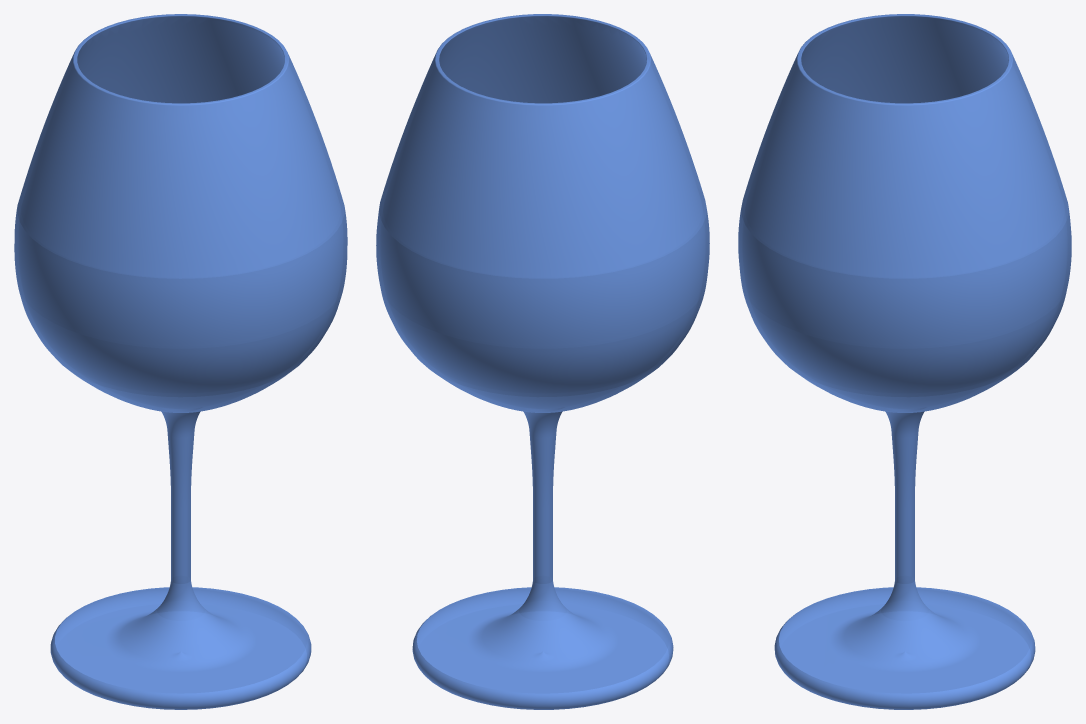
3 renders of one model, left to right at view 1: azimuth 30°, elevation 25°; view 2: azimuth 150°, elevation 25°; view 3: azimuth 270°, elevation 25°, orthographic.
Parts seen in each view (by area): view 1: group_0 (×3); view 2: group_0 (×3); view 3: group_0 (×3).
Part boxes in pixels (x1,y1,x2,y2): group_0 (×3): (14, 14, 347, 709); group_0 (×3): (376, 14, 709, 709); group_0 (×3): (738, 14, 1071, 709).
Bounding box in the file's own units: 121 × 121 × 239.
